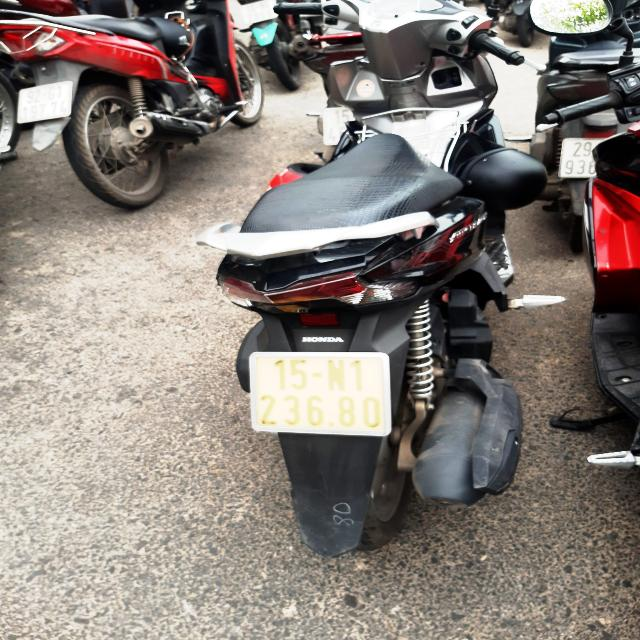license_plate: (247, 352, 396, 439)
